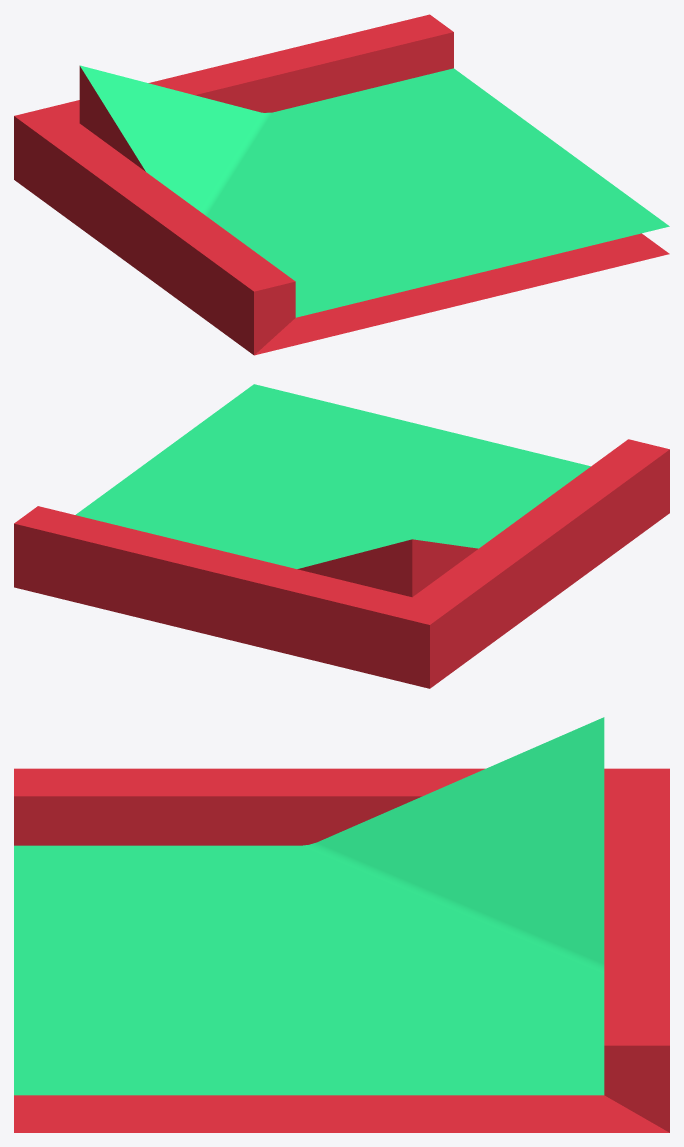
File: hillCorner.fbx
3 renders of one model, top to bottom at view 1: azimuth 30°, elevation 25°; view 2: azimuth 150°, elevation 25°; view 3: azimuth 270°, elevation 25°, orthographic. The views are drawn at different scales.
Parts seen in each view (by area): view 1: hillCorner; view 2: hillCorner; view 3: hillCorner.
Boxes of the visible parts, x1,y1,x2,y2 form: hillCorner: (14,14,669,355); hillCorner: (14,384,669,688); hillCorner: (14,717,669,1132).
Bounding box in the file's own units: 99.99 × 99.99 × 28.
